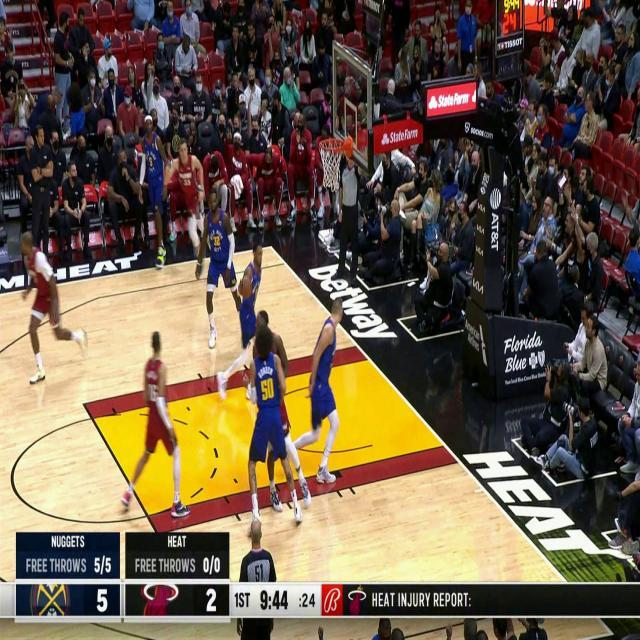rim: (240, 276, 252, 298)
